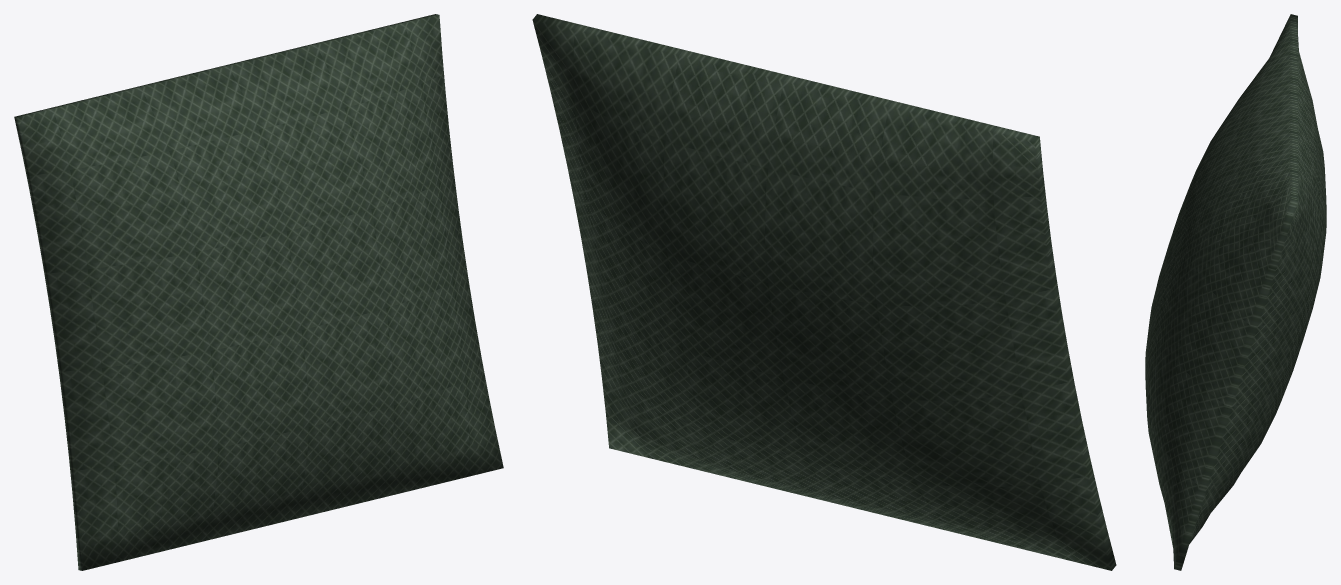
3 views of the same model, side by side, from view 1: azimuth 30°, elevation 25°; view 2: azimuth 150°, elevation 25°; view 3: azimuth 270°, elevation 25° (orthographic). The views are drawn at different scales.
Visible parts, largest first — view 1: tofto; view 2: tofto; view 3: tofto.
Boxes of the visible parts, x1=… form: tofto: x1=14, y1=14, x2=503, y2=570; tofto: x1=532, y1=14, x2=1116, y2=570; tofto: x1=1145, y1=14, x2=1326, y2=570.
Size of the model in its own units: 0.48 by 0.4444 by 0.1972.
Materials: 1 (1 with a texture image).
